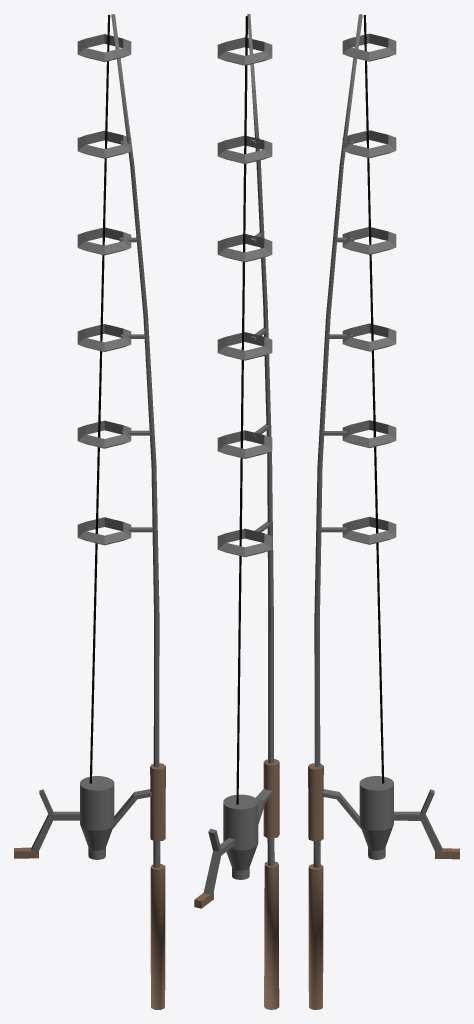
File: fishing_rod.fbx
3 views of the same model, side by side, from view 1: azimuth 90°, elevation 25°; view 2: azimuth 150°, elevation 25°; view 3: azimuth 270°, elevation 25° (orthographic).
Visible parts, largest first — view 1: Cube.001, Cube.003; view 2: Cube.001, Cube.003; view 3: Cube.001, Cube.003.
Part boxes in pixels (<box>): Cube.001: <box>77,14,165,1009</box>; Cube.003: <box>14,789,80,858</box>; Cube.001: <box>217,14,279,1009</box>; Cube.003: <box>194,828,234,908</box>; Cube.001: <box>308,14,396,1009</box>; Cube.003: <box>393,789,459,859</box>.
Bounding box in the file's own units: 46.84 × 824 × 114.
